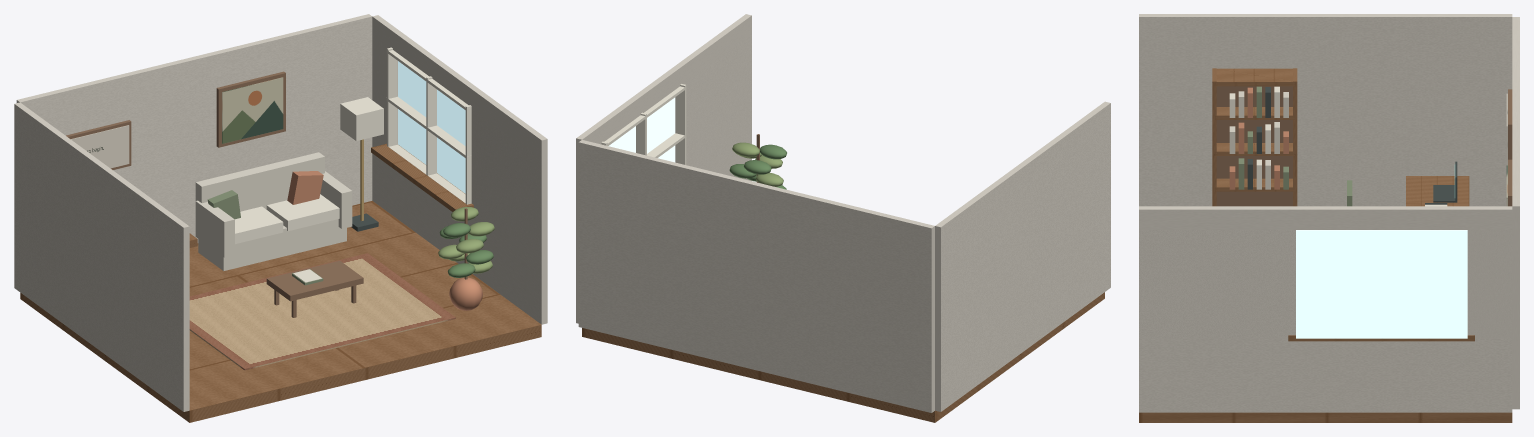
File: synthetic-room.glb
3 views of the same model, side by side, from view 1: azimuth 30°, elevation 25°; view 2: azimuth 150°, elevation 25°; view 3: azimuth 270°, elevation 25° (orthographic). The views are drawn at different scales.
Visible parts, largest first — view 1: Left wall, Back wall, Floor · 6 × 5 metres, Linen rug, Right window wall lower, Right wall front, Window frame (×6), Right wall upper, Window view · synthetic flat colour, Sofa back, Landscape print, Sofa base (+12 smaller); view 2: Back wall, Left wall, Right wall front, Floor · 6 × 5 metres, Right wall upper, Window view · synthetic flat colour, Window frame (×2), Right window wall lower; view 3: Left wall, Right window wall lower, Window view · synthetic flat colour, Right wall front, Right wall upper, Right wall rear, Bookshelf left, Floor · 6 × 5 metres, Bookshelf board (×4), Back wall, Desk · 1.8m width, Bookshelf upright (×2) (+2 smaller).
Boxes of the visible parts, x1,y1,x2,y2 form: Left wall: (14,102,189,411); Back wall: (16,14,372,242); Floor · 6 × 5 metres: (20,201,541,422); Linen rug: (189,253,455,370); Right window wall lower: (372,136,547,324); Right wall front: (471,108,547,256); Window frame (×6): (386,47,471,204); Right wall upper: (372,15,547,158); Window view · synthetic flat colour: (398,61,465,193); Sofa back: (195,152,324,211); Landscape print: (222,77,283,143); Sofa base: (198,219,346,270); Back wall: (578,140,934,412); Left wall: (935,101,1110,411); Right wall front: (683,34,751,168); Floor · 6 × 5 metres: (582,292,1104,422); Right wall upper: (576,14,751,157); Window view · synthetic flat colour: (608,97,675,162); Window frame (×2): (601,84,686,164); Right window wall lower: (576,132,751,323); Left wall: (1139,14,1512,206); Right window wall lower: (1139,338,1512,412); Window view · synthetic flat colour: (1296,230,1467,338); Right wall front: (1139,230,1295,338); Right wall upper: (1139,206,1512,229); Right wall rear: (1467,230,1512,338); Bookshelf left: (1216,86,1292,206); Floor · 6 × 5 metres: (1139,412,1512,422); Bookshelf board (×4): (1214,68,1294,191); Back wall: (1512,17,1519,409); Desk · 1.8m width: (1406,176,1469,206); Bookshelf upright (×2): (1212,68,1297,206).
Bounding box in the file's own units: 6.21 × 3.2 × 5.1.
Materials: 16 (5 with a texture image).
